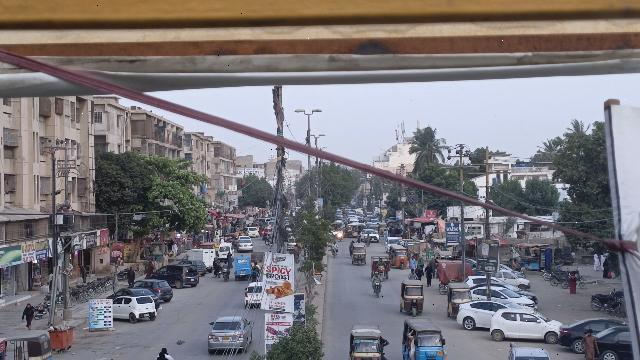Bike: (372, 280, 383, 297), (220, 268, 231, 282), (214, 267, 222, 278)
Car: (489, 306, 562, 344), (557, 314, 617, 352), (455, 299, 517, 330), (206, 314, 255, 353), (113, 295, 158, 325), (156, 263, 200, 290), (598, 323, 630, 360), (133, 278, 174, 304), (242, 281, 263, 309)
Cart: (369, 254, 391, 278)
Person: (580, 328, 600, 360), (20, 301, 36, 330), (424, 263, 433, 288), (249, 262, 259, 281), (415, 264, 424, 280), (408, 255, 416, 269), (371, 271, 382, 280), (376, 258, 386, 266), (222, 261, 230, 269), (214, 258, 221, 267)
Rickshaw: (398, 318, 447, 360), (346, 321, 388, 360), (398, 278, 426, 317), (445, 281, 470, 319), (234, 255, 252, 281), (350, 242, 368, 267)
Truck: (188, 246, 215, 268)
